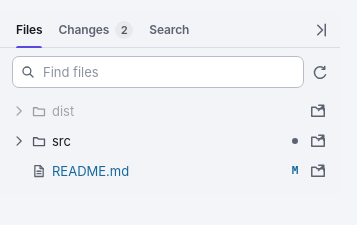
it: the files tab › reads a folder when it is opened, and again when it is reopened
Expected: the text "src" is shown, [52,132,71,150]
Click the button "src" at x=19, y=141, box [8,126,306,156]
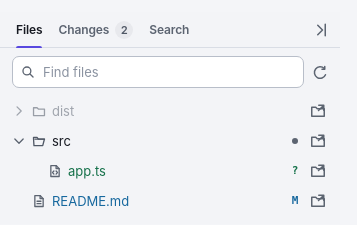
Result: the text "app.ts" is shown at [68,162,106,180]
// Folded: the row goes, the listing stays.
Click the button "src" at x=19, y=141, box [8,126,306,156]
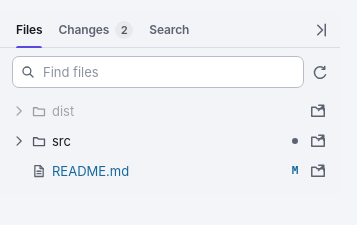
Result: the button "app.ts" is gone
// No watcher, so opening it again is what asks for a fresh read.
Click the button "src" at x=19, y=141, box [8,126,306,156]
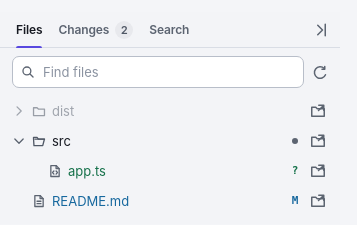
Result: the text "app.ts" is shown at [68,162,106,180]
